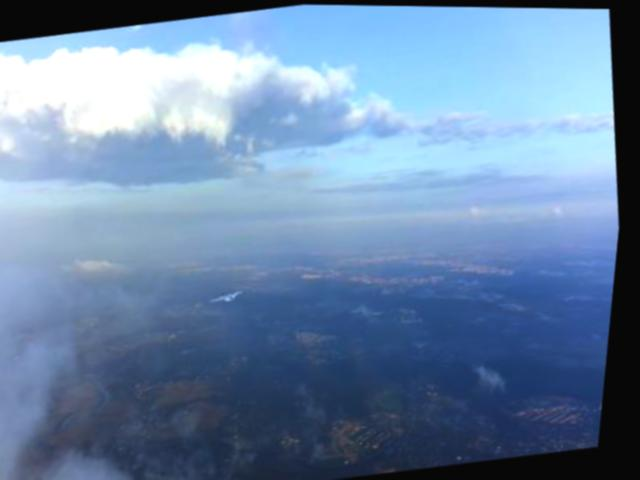uav: (211, 280, 252, 310)
